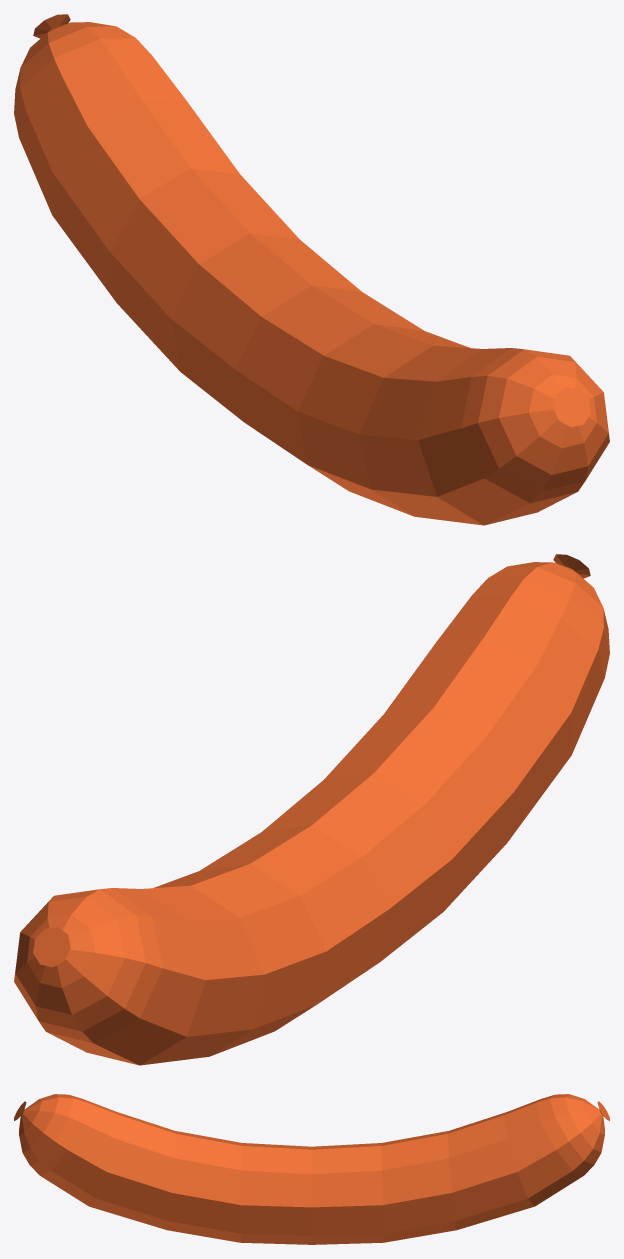
File: sausage.fbx
3 renders of one model, top to bottom at view 1: azimuth 30°, elevation 25°; view 2: azimuth 150°, elevation 25°; view 3: azimuth 270°, elevation 25°, orthographic. The views are drawn at different scales.
Parts seen in each view (by area): view 1: kielba; view 2: kielba; view 3: kielba.
Boxes of the visible parts, left/top/right/bottom form: kielba: left=14, top=14, right=609, bottom=525; kielba: left=14, top=554, right=609, bottom=1065; kielba: left=14, top=1094, right=609, bottom=1244.
Bounding box in the file's own units: 3.79 × 5.85 × 22.53.
